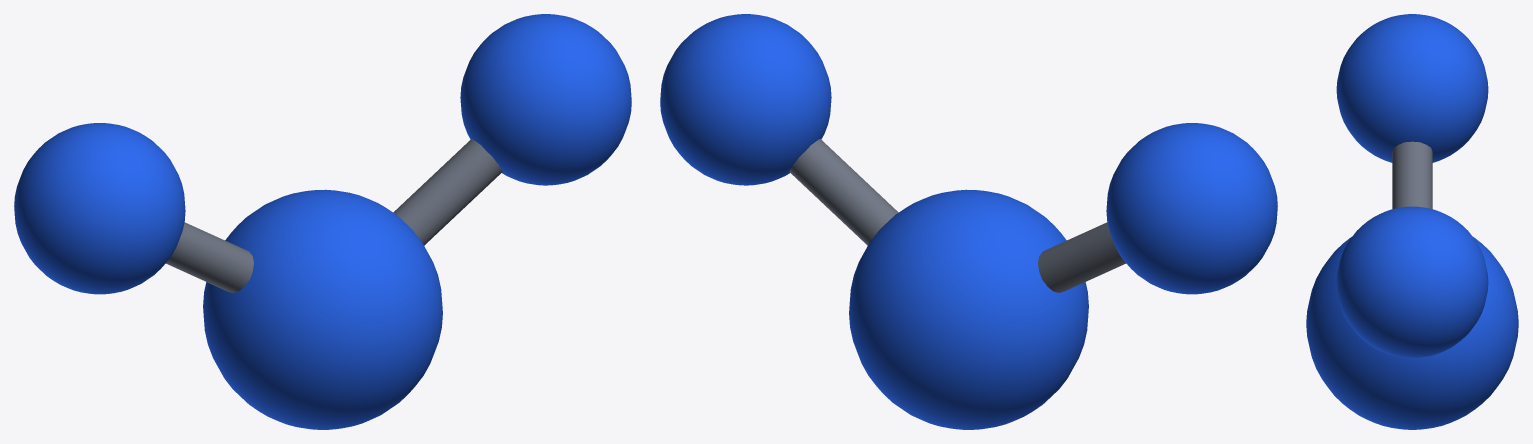
Rendered from agua.glb.
3 views of the same model, side by side, from view 1: azimuth 30°, elevation 25°; view 2: azimuth 150°, elevation 25°; view 3: azimuth 270°, elevation 25° (orthographic). The views are drawn at different scales.
Parts seen in each view (by area): view 1: O1, H2, H1, agua; view 2: O1, H2, H1, agua; view 3: O1, H1, H2, agua.
Part boxes in pixels (x1,y1,x2,y2): O1: (203, 189, 442, 429); H2: (14, 123, 185, 294); H1: (460, 14, 631, 185); agua: (166, 139, 502, 292); O1: (849, 189, 1088, 429); H2: (1106, 123, 1277, 294); H1: (660, 14, 831, 185); agua: (789, 139, 1125, 292); O1: (1306, 237, 1518, 429); H1: (1336, 206, 1488, 358); H2: (1336, 14, 1488, 162); agua: (1392, 141, 1432, 208).
Bounding box in the file's own units: 2.4 × 1.32 × 0.84.
